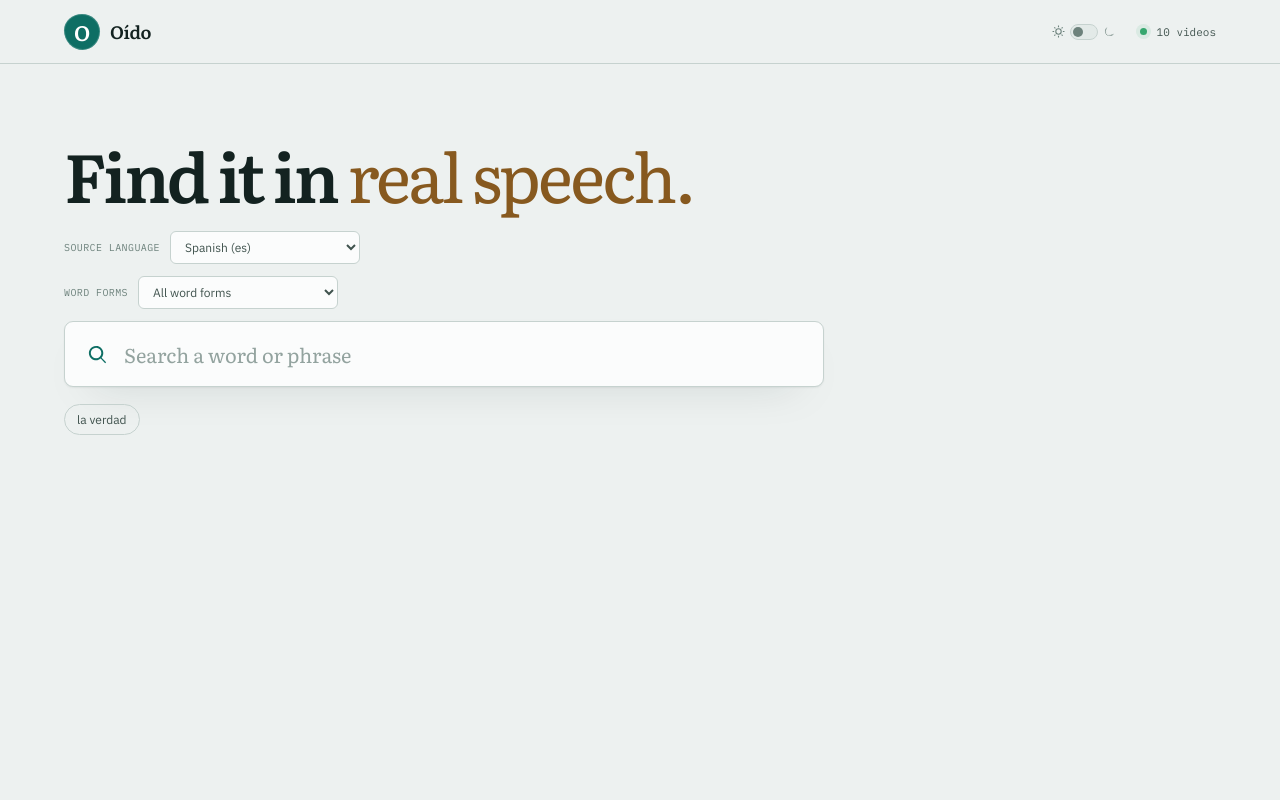
Test: explains exact-only fallback and renders typed unsupported-analysis errors
Click the button "la verdad".
click(102, 420)  # box [64,404,140,435]
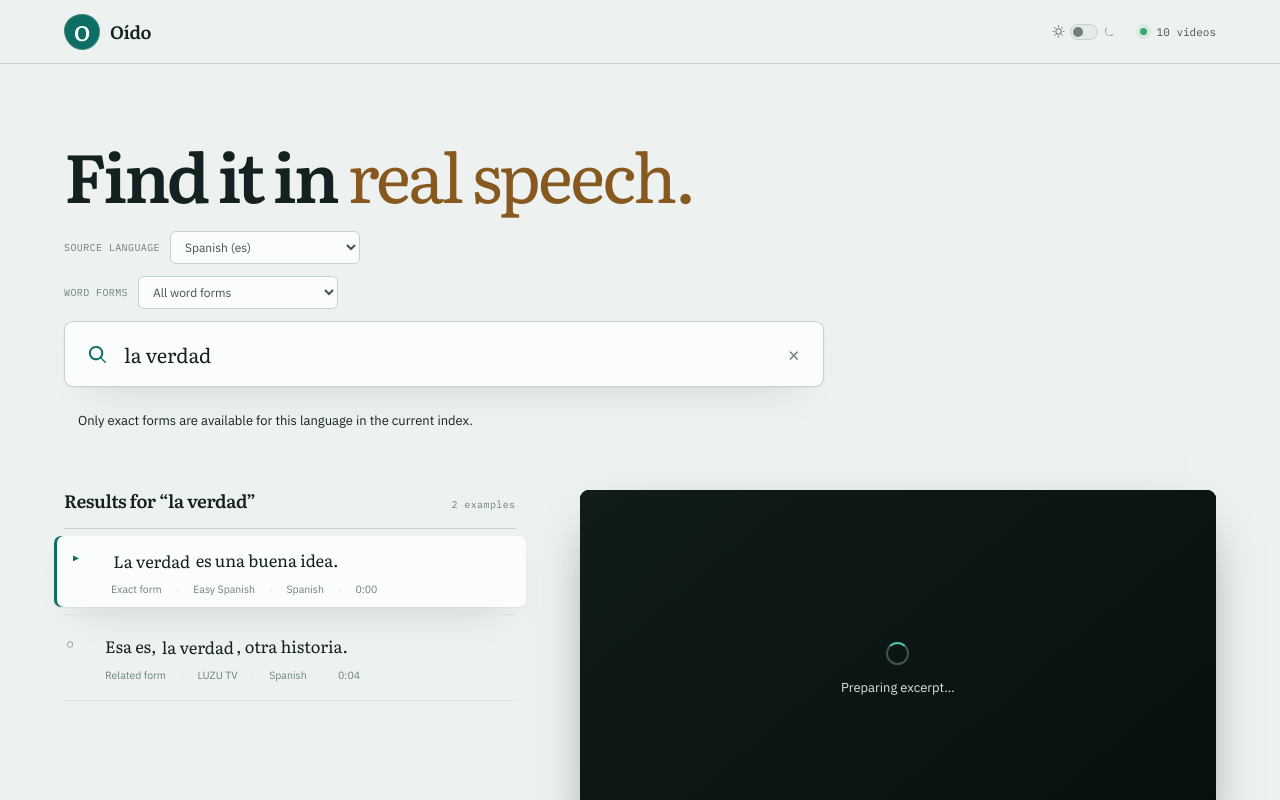
Expected: the text "Only exact forms are available for this language in the current index." is shown, [78,412,473,429]
Select "Dictionary-form matching" in the dropdown labelled "Word forms" at (238, 293), box [138,276,338,309]
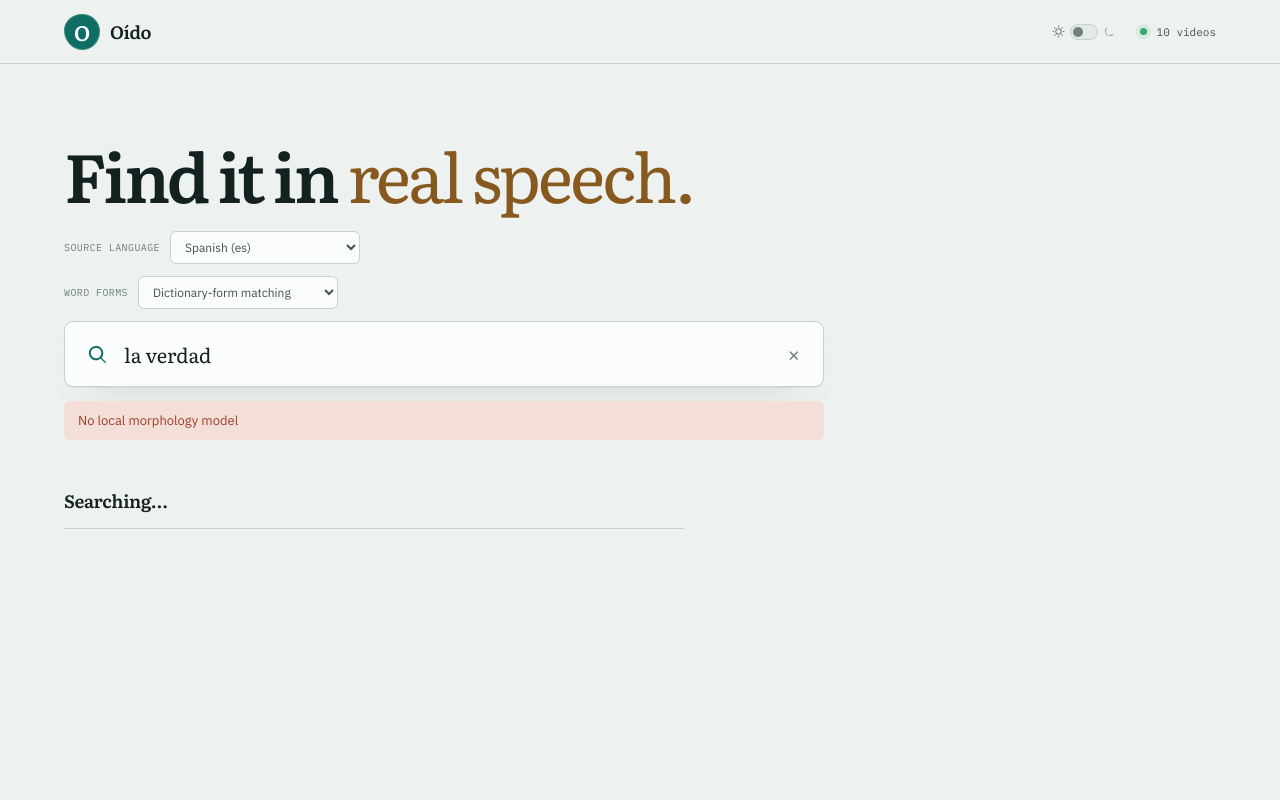
Expected: the message reads "No local morphology model", [78,412,238,429]
